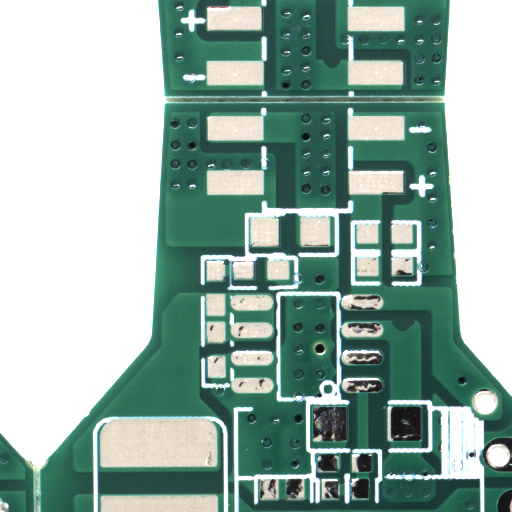Mouse_bite: (402, 326, 426, 340), (333, 63, 350, 74)
